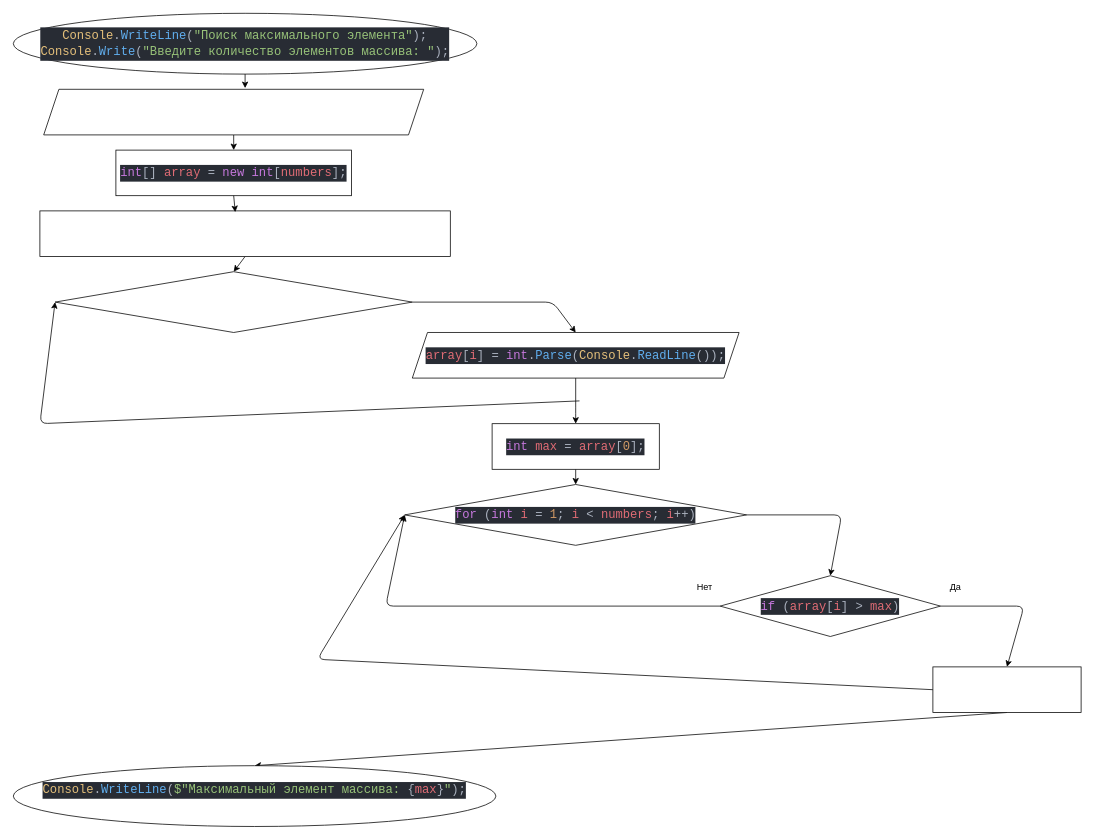
Image size: 1094x840. Some labels were removed from this diagram. The shapes that lost their labels are listed below. From the top down, each one's centre as x and y in pixels, then its label:
point (233, 112): int numbers = Convert . ToInt32 ( Console . ReadLine ());
point (244, 233): Console . Write ( $" Введите { numbers } элементов массива: " );
point (233, 301): for ( int i = 0 ; i < numbers ; i ++ )
point (1006, 689): max = array [ i ];
